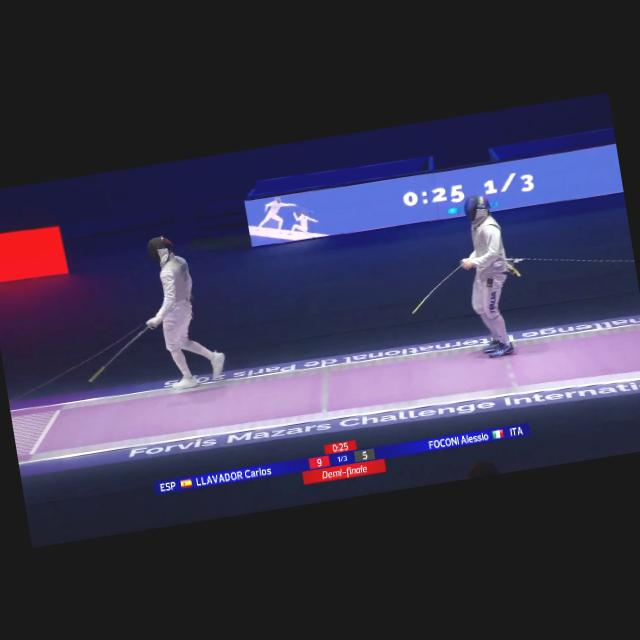blade: (81, 323, 162, 384), (398, 260, 478, 320)
